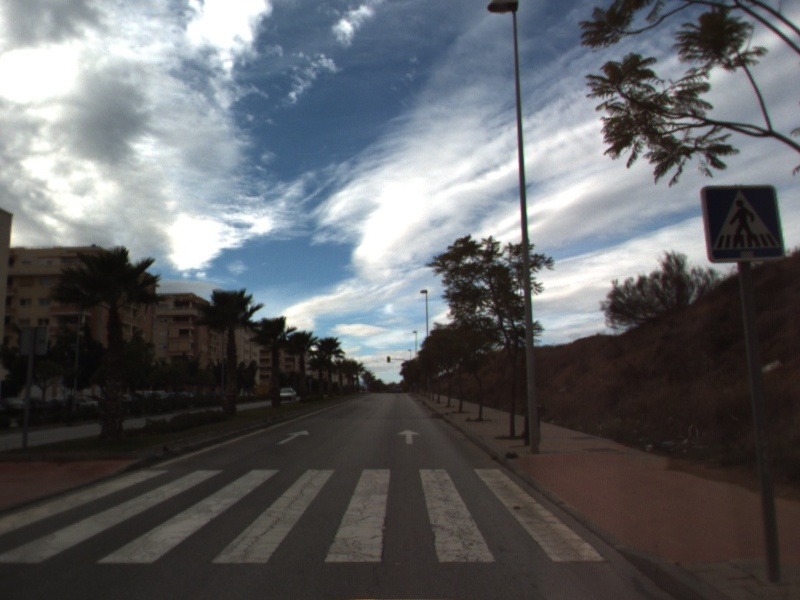STRAIGHT: (275, 427, 312, 446), (396, 427, 423, 446)
